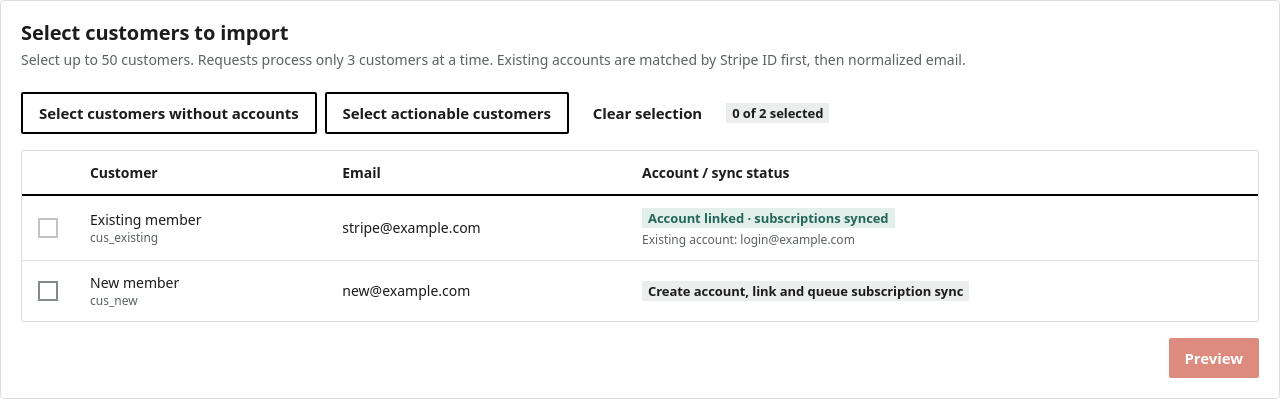
Test: marks existing accounts by Stripe ID and selects only customers without accounts
The image size is (1280, 416).
Expected: the text "Existing account: login@example.com" is shown, left=642, top=231, right=855, bottom=248
Click the button "Select customers without accounts": (169, 113) left=21, top=92, right=317, bottom=134
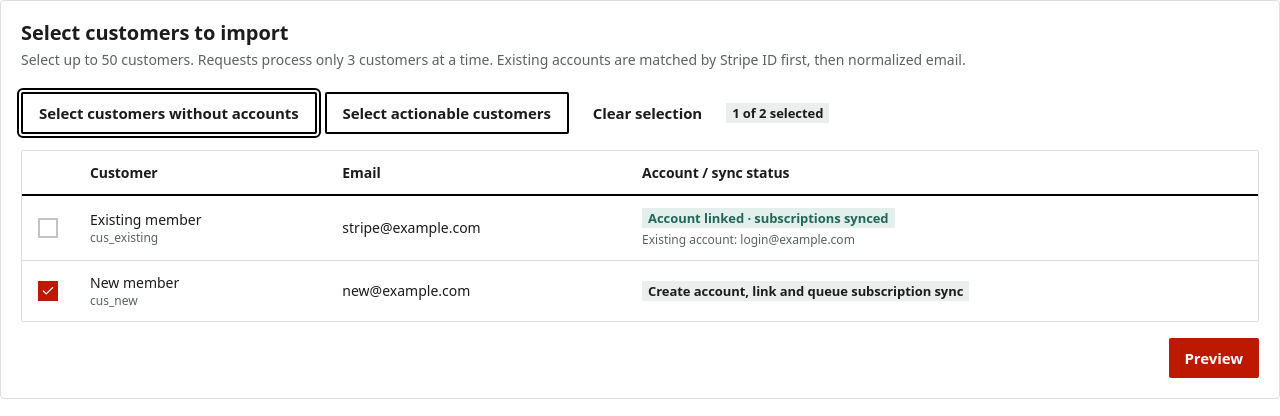
Now the checkbox named "Select Stripe customer cus_new" is checked, box left=38, top=281, right=58, bottom=301
Click the button "Preview": (1214, 358) left=1168, top=338, right=1259, bottom=378
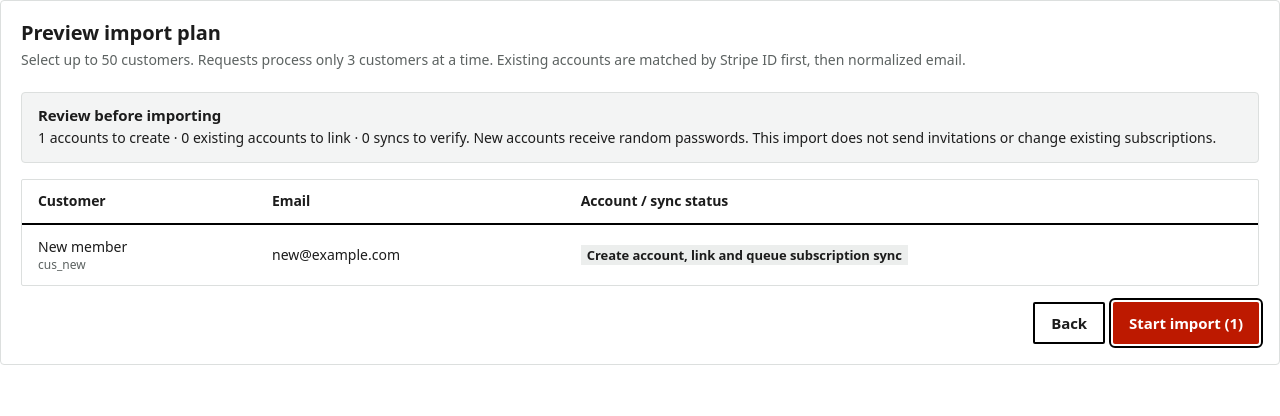
Now the text "1 accounts to create" is shown, box left=38, top=127, right=1242, bottom=150
Now the button "Start import (1)" is shown, box left=1113, top=302, right=1259, bottom=344
